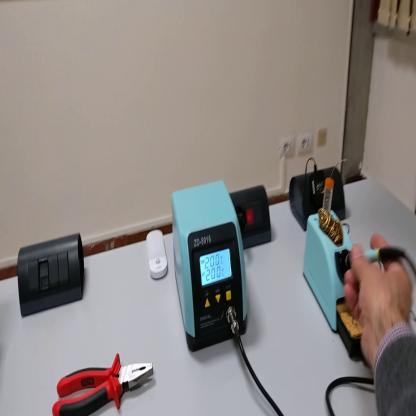hand: (342, 231, 414, 371)
pliers: (53, 348, 157, 413)
socket: (291, 167, 348, 228), (232, 183, 276, 250)
welder base: (308, 175, 366, 362)
welder probe tip: (347, 243, 411, 269)
welder station: (171, 180, 248, 354)
